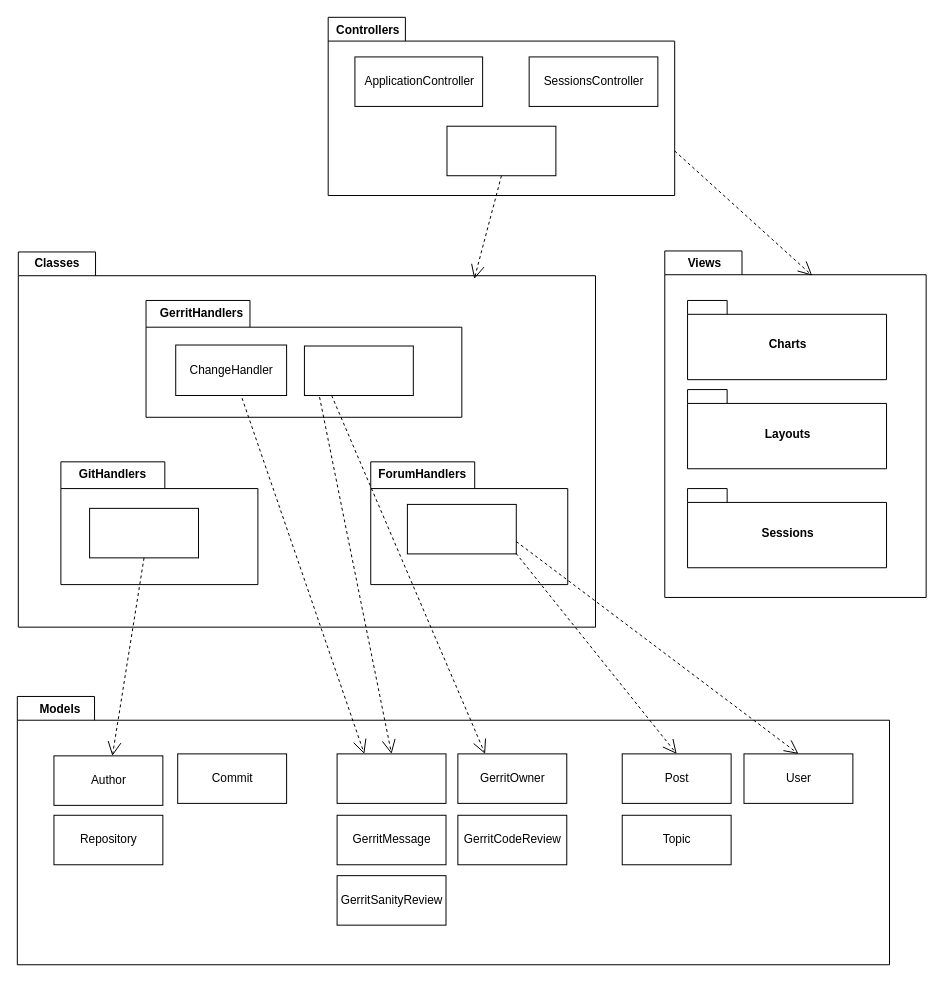
Image size: 943x982. Some labels were removed from this diagram. Each missing label, with the centre of its shape:
ChartsController: the point at 501,150
GerritChange: the point at 391,778
GitHandler: the point at 143,532
OwnerHandler: the point at 358,370
UserHandler: the point at 461,528
